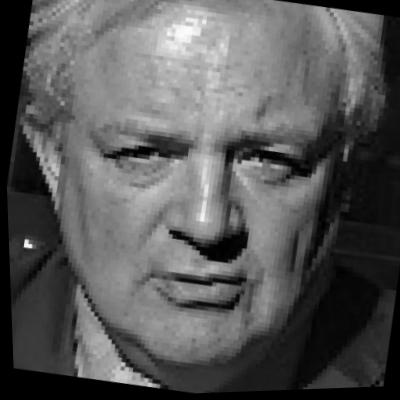angry: (28, 0, 357, 390)
